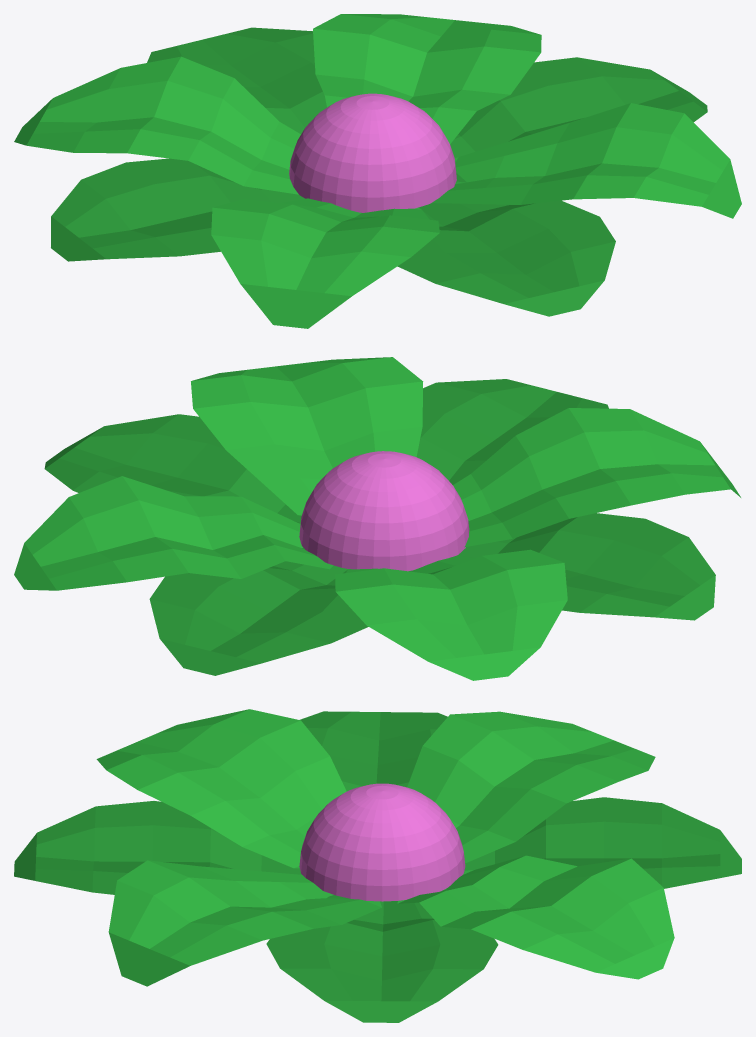
Rendered from gele2.glb.
3 views of the same model, one above another, from view 1: azimuth 30°, elevation 25°; view 2: azimuth 150°, elevation 25°; view 3: azimuth 270°, elevation 25° (orthographic). The views are drawn at different scales.
Parts seen in each view (by area): view 1: Gele; view 2: Gele; view 3: Gele.
Boxes of the visible parts, x1,y1,x2,y2 form: Gele: (14, 14, 741, 328); Gele: (14, 357, 740, 680); Gele: (14, 709, 741, 1022).
Bounding box in the file's own units: 0.3757 × 0.0644 × 0.3756.
